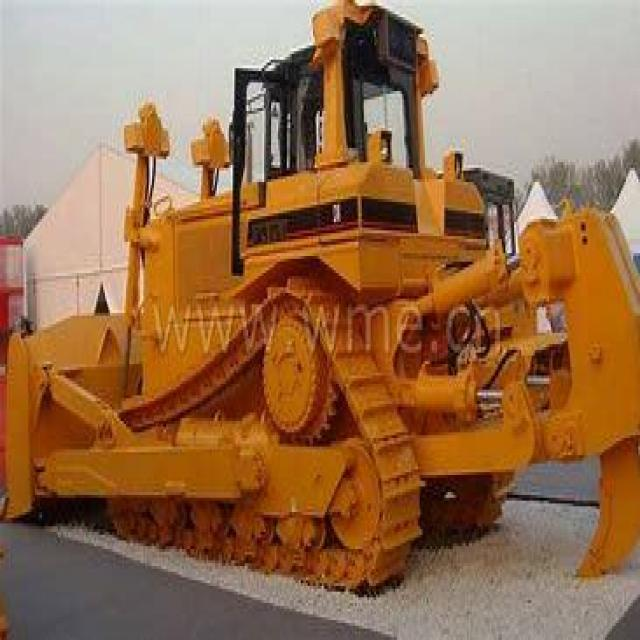Bulldozer: (2, 0, 638, 612)
